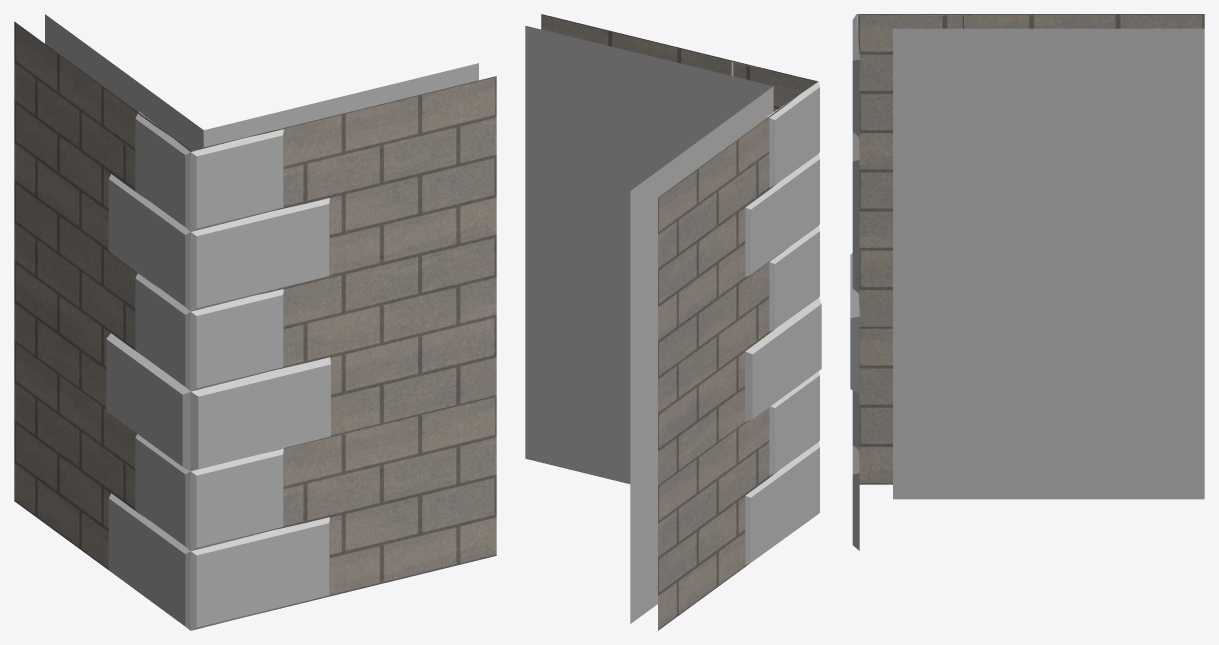
File: WhiteBrick_Corner.gltf
3 renders of one model, left to right at view 1: azimuth 30°, elevation 25°; view 2: azimuth 150°, elevation 25°; view 3: azimuth 270°, elevation 25°, orthographic. The views are drawn at different scales.
Parts seen in each view (by area): view 1: WhiteBrick_Corner; view 2: WhiteBrick_Corner; view 3: WhiteBrick_Corner.
Boxes of the visible parts, left/top/right/bottom form: WhiteBrick_Corner: left=14, top=14, right=496, bottom=630; WhiteBrick_Corner: left=525, top=14, right=821, bottom=630; WhiteBrick_Corner: left=850, top=14, right=1204, bottom=550.
Size of what is drawn, in the model's own units: 2.04 by 3 by 2.05.
